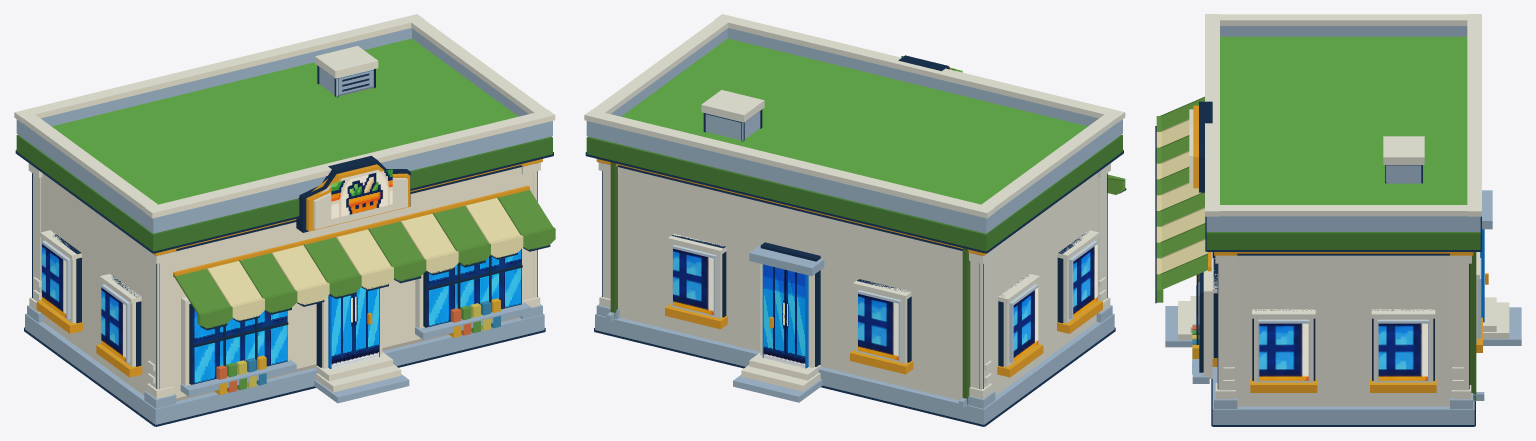
3 views of the same model, side by side, from view 1: azimuth 30°, elevation 25°; view 2: azimuth 150°, elevation 25°; view 3: azimuth 270°, elevation 25° (orthographic).
Visible parts, largest first — view 1: B07 生活超市; view 2: B07 生活超市; view 3: B07 生活超市.
Boxes of the visible parts, x1,y1,x2,y2 form: B07 生活超市: (14,14,555,426); B07 生活超市: (584,14,1126,426); B07 生活超市: (1155,14,1521,426).
Size of the model in its own units: 8.54 by 4.62 by 6.7.
2 materials, 1 textured.
